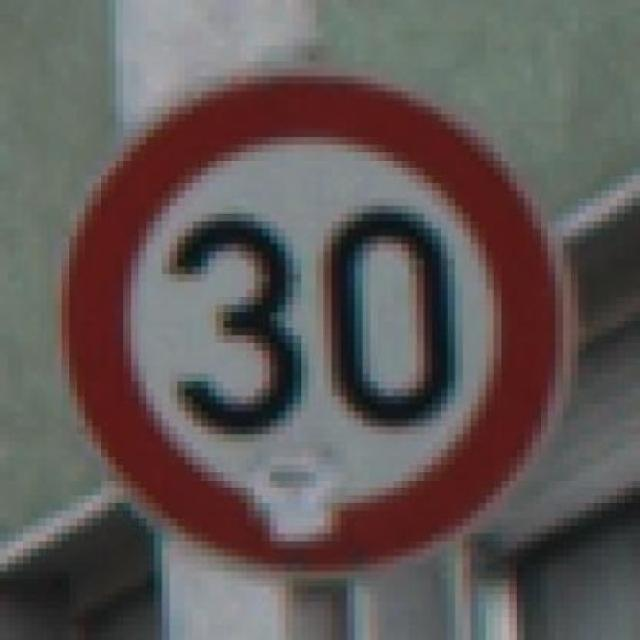Speed Limit 30 KMPh: (23, 45, 609, 587)
